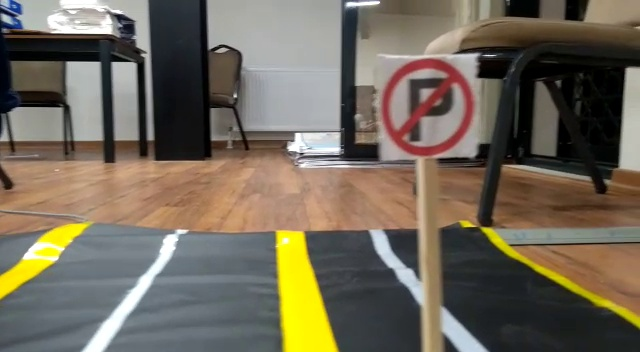park_yapilmaz: (377, 53, 475, 158)
